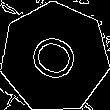O_SE: (23, 27, 86, 88)
